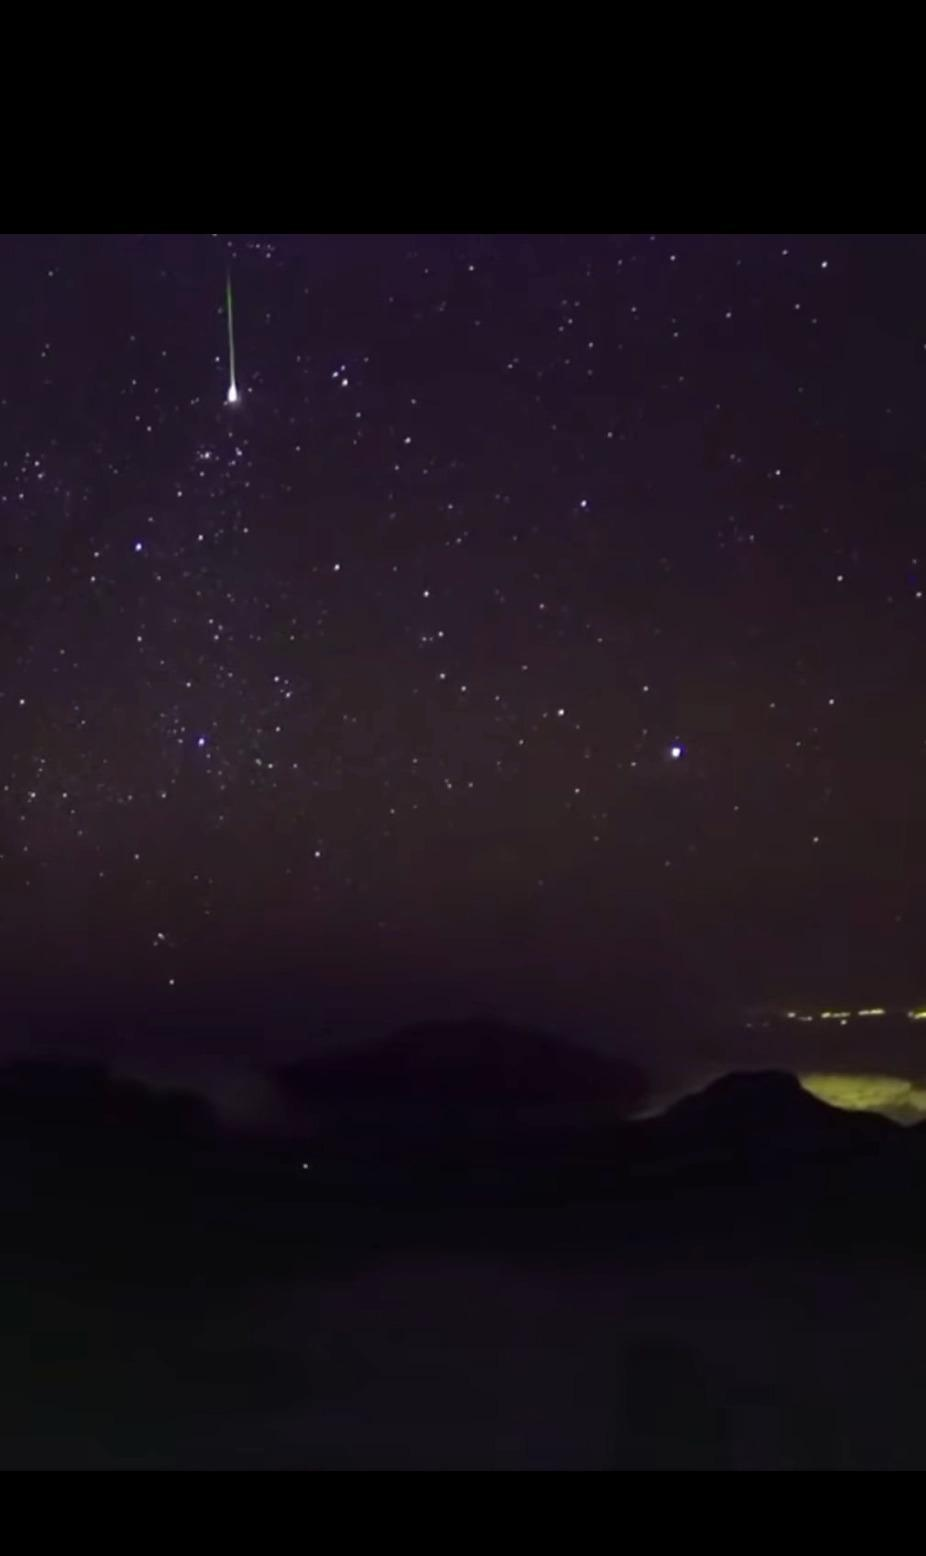meteorite: (209, 248, 250, 407)
